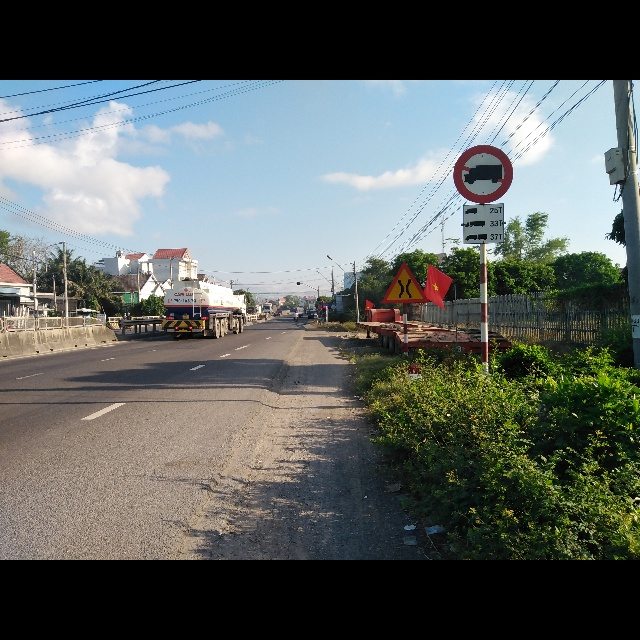Cấm xe tải: (454, 144, 513, 203)
Cầu hẹp: (381, 264, 427, 306)
